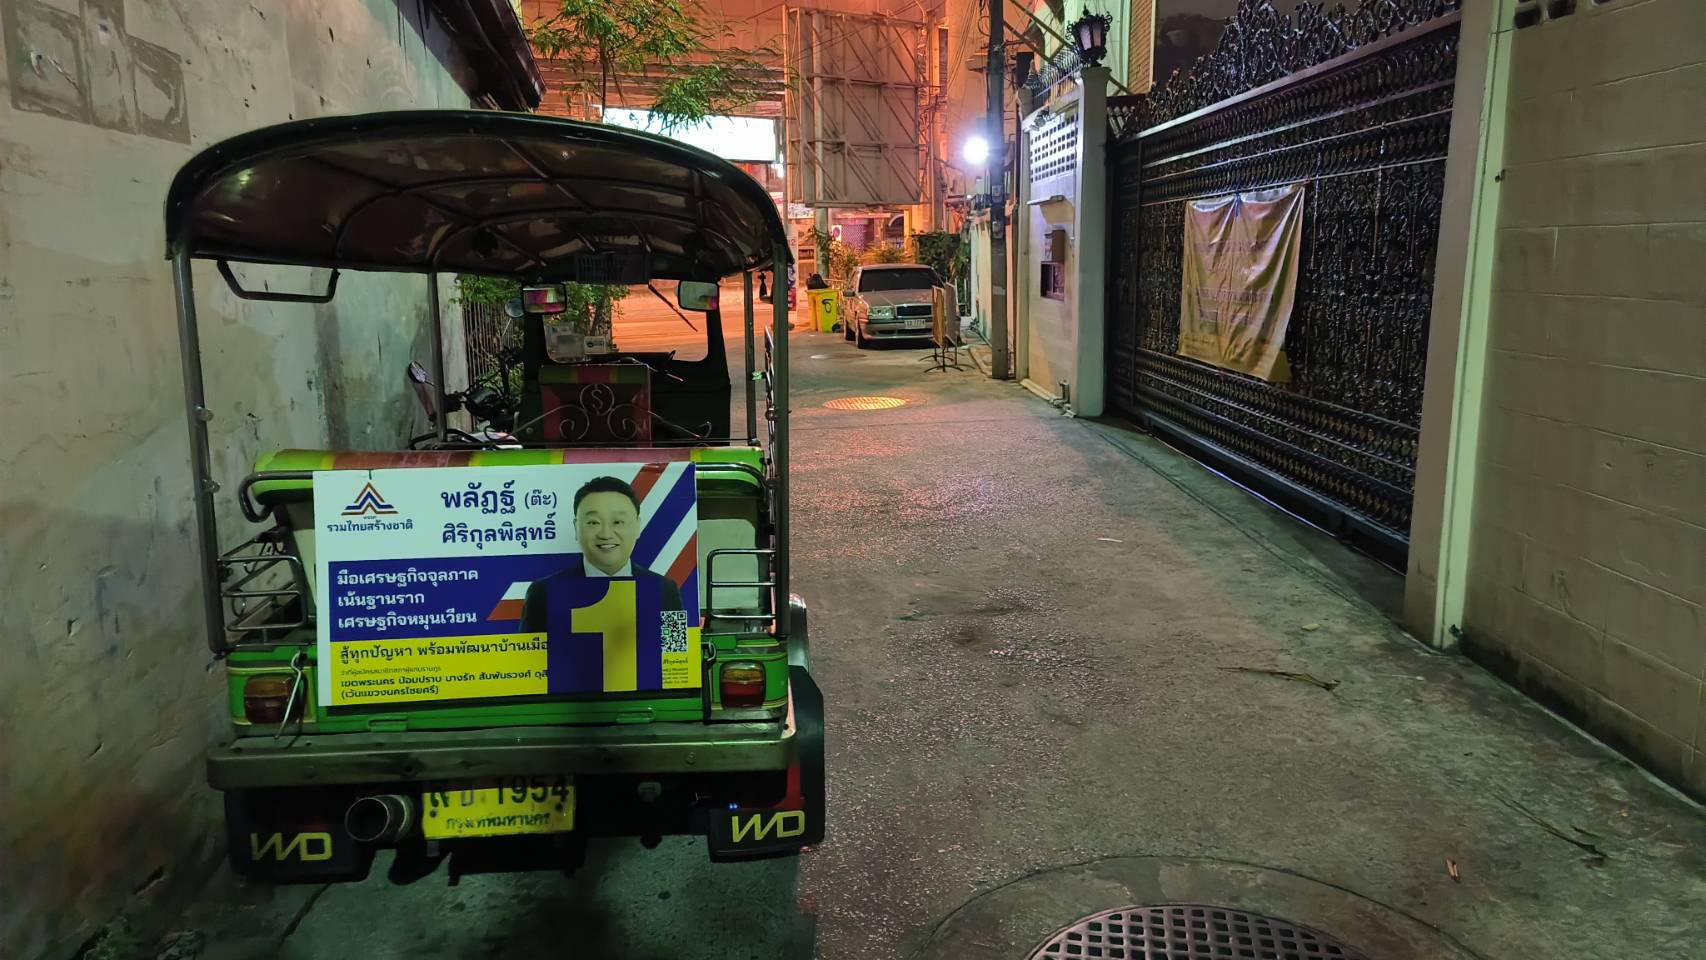Banner: (314, 469, 709, 708)
